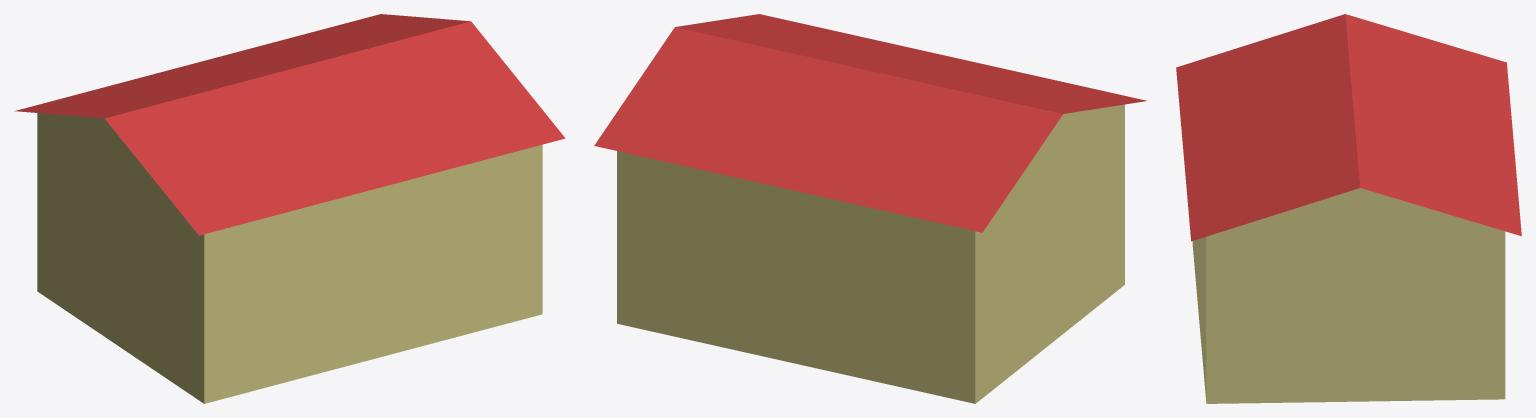
The picture shows the model from 3 angles, left to right: view 1: azimuth 30°, elevation 25°; view 2: azimuth 150°, elevation 25°; view 3: azimuth 270°, elevation 25°; orthographic projection. The views are drawn at different scales.
Size of the model in its own units: 13.35 by 10.89 by 7.66.
